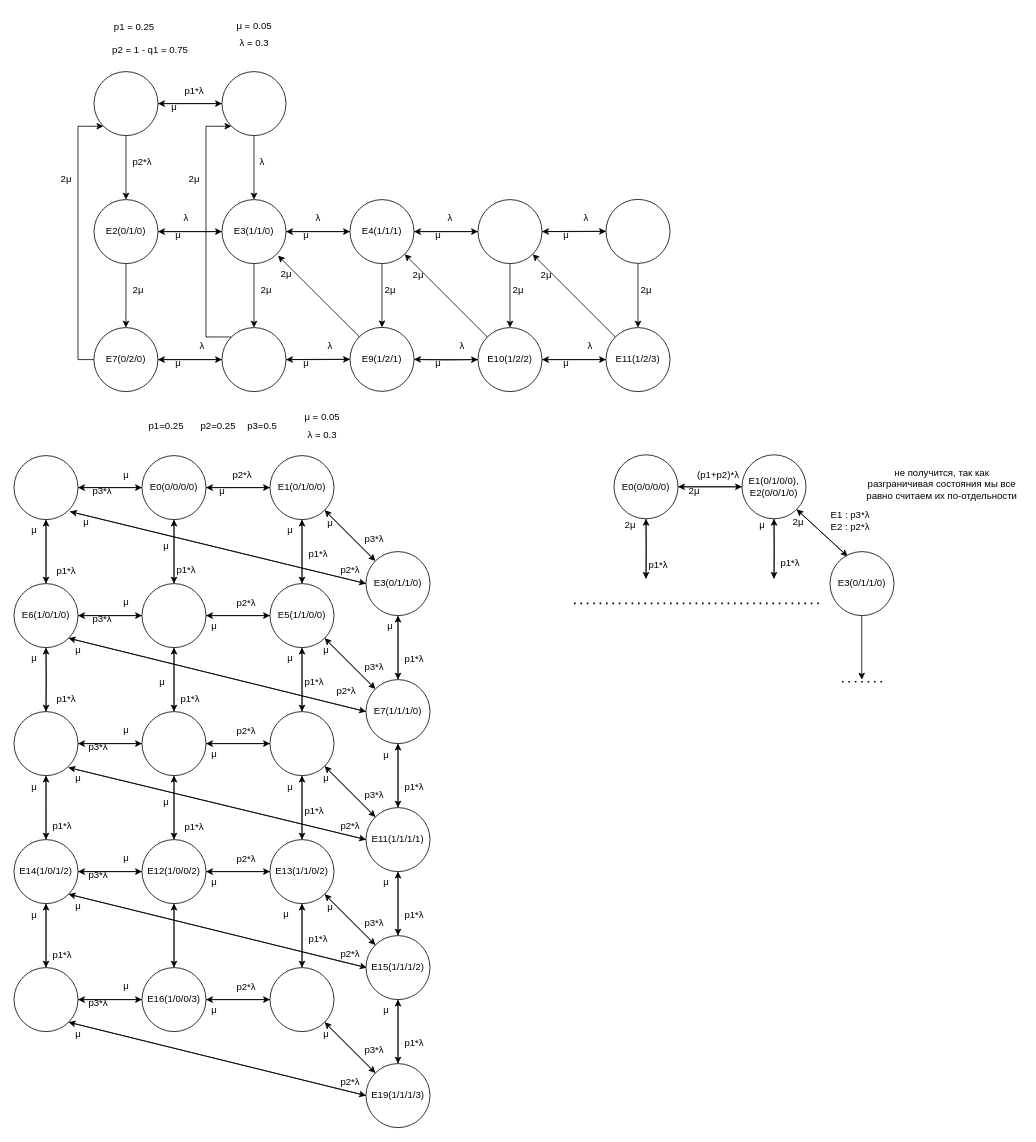
The diagram is 1036 pixels wide and 1142 high, and some of its shapes have lost their labels. The centre of each missing label's shape, as x and y in pixels:
E0(0/0/0): [125,103]
E1(1/0/0): [253,103]
E10(1/0/1/1): [45,743]
E17(1/1/0/3): [301,999]
E18(1/0/1/3): [45,999]
E2(0/0/1/0): [45,487]
E4(1/0/0/0): [173,615]
E5(1/1/2): [509,231]
E6(1/1/3): [637,231]
E8(1/0/0/1): [173,743]
E8(1/2/0): [253,359]
E9(1/1/0/1): [301,743]
